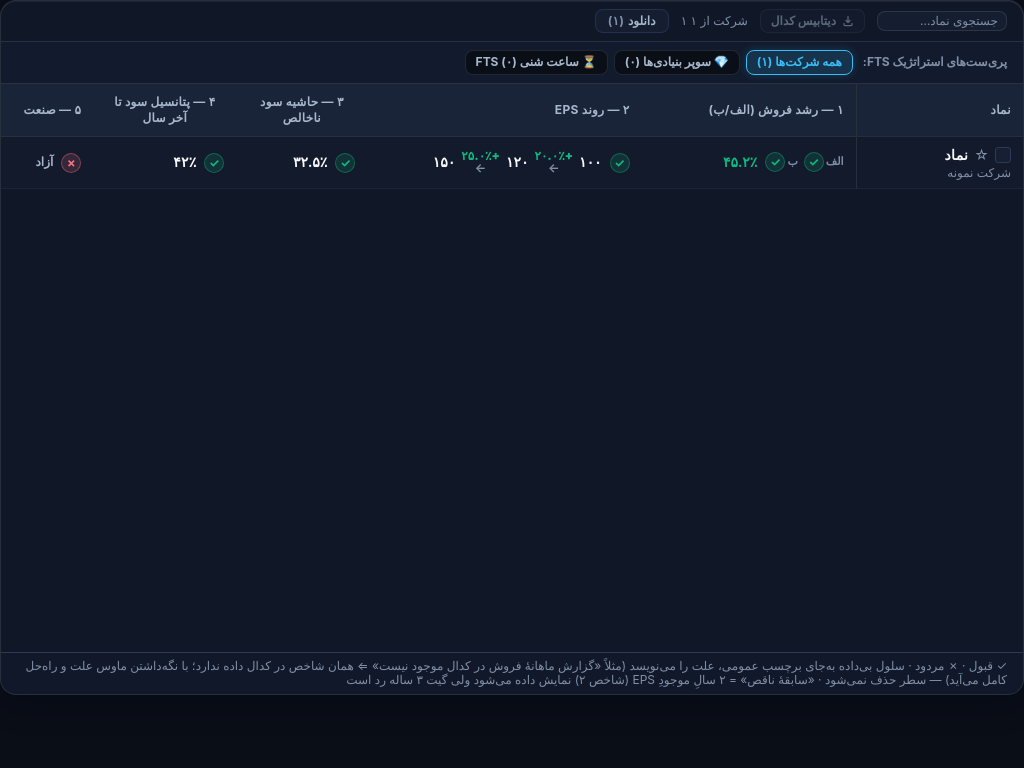
AuditBadge در جدول غربالگری (FtsScreenTable) › بدون تارگت‌ها: ستون تارگت «—» و فاصله تا حد معیار «قابل ارزیابی نیست»
Hover over the button with test id "fts-mark-1a_monetary_growth" at (814, 162), box [804,152,824,172]
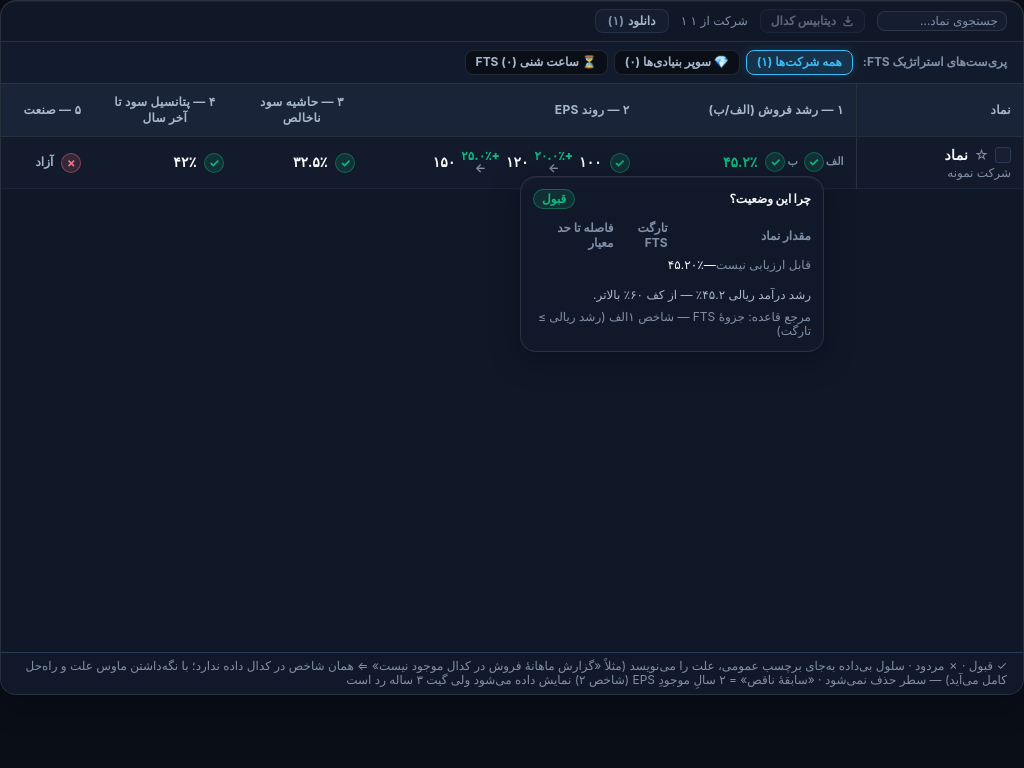
Expected: the cell with test id "audit-target" reads "—", [704,258,716,272]
Expected: the cell with test id "audit-deviation" reads "قابل ارزیابی نیست", [716,258,811,272]
